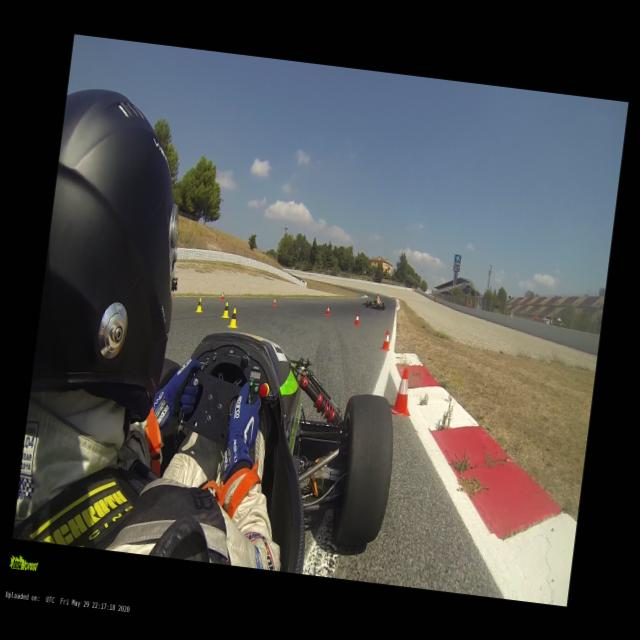orange_cone: (388, 366, 416, 417), (382, 330, 392, 351), (353, 312, 360, 326), (324, 306, 330, 316), (272, 296, 276, 306), (220, 292, 224, 300), (172, 290, 175, 298)
yellow_cone: (228, 307, 239, 328), (220, 302, 230, 320), (195, 297, 203, 312)
